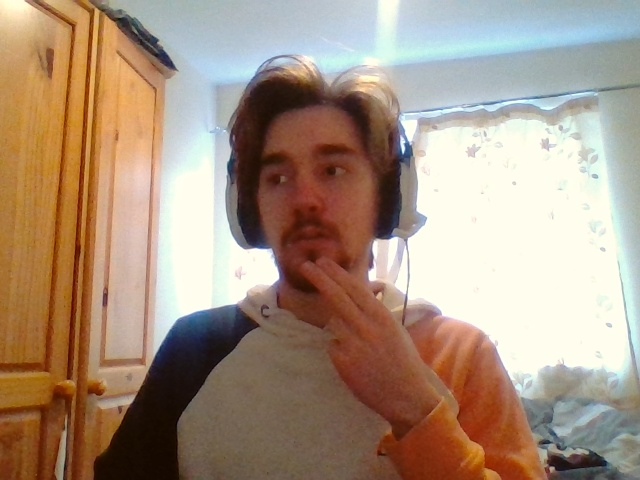afternoon: (299, 258, 414, 408)
